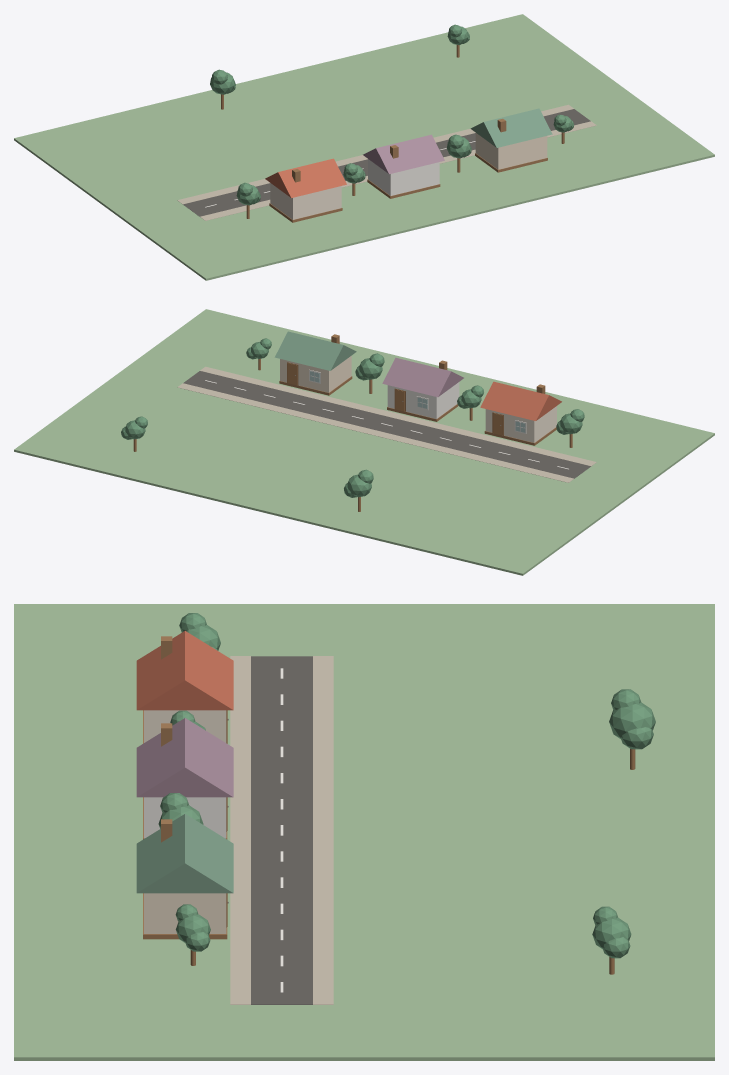
The model's file is Barrio.fbx.
3 views of the same model, one above another, from view 1: azimuth 30°, elevation 25°; view 2: azimuth 150°, elevation 25°; view 3: azimuth 270°, elevation 25° (orthographic). The views are drawn at different scales.
Parts seen in each view (by area): view 1: Terreno, Casa_3, Casa_2, Casa, Calle, Arbol_5, Arbol_2, Arbol_4; view 2: Terreno, Calle, Casa, Casa_3, Casa_2, Arbol_5, Arbol_2, Arbol_4, Arbol, Arbol_6; view 3: Terreno, Calle, Casa_3, Casa_2, Casa, Arbol_5, Arbol_6, Arbol_3, Arbol_4, Arbol_2.
Boxes of the visible parts, x1,y1,x2,y2 form: Terreno: (14, 14, 714, 280); Casa_3: (470, 108, 552, 172); Casa_2: (363, 134, 444, 198); Casa: (265, 158, 346, 222); Calle: (177, 104, 596, 220); Arbol_5: (210, 69, 235, 109); Arbol_2: (446, 134, 471, 172); Arbol_4: (236, 182, 260, 218); Terreno: (14, 309, 714, 575); Calle: (177, 366, 596, 482); Casa: (480, 381, 561, 445); Casa_3: (274, 331, 356, 395); Casa_2: (382, 357, 463, 421); Arbol_5: (344, 469, 373, 511); Arbol_2: (355, 353, 384, 393); Arbol_4: (556, 409, 584, 447); Arbol: (457, 385, 483, 420); Arbol_6: (121, 416, 147, 451); Terreno: (14, 604, 714, 1060); Calle: (230, 656, 333, 1004); Casa_3: (136, 814, 233, 939); Casa_2: (136, 718, 233, 839); Casa: (136, 631, 233, 743); Arbol_5: (609, 689, 655, 769); Arbol_6: (592, 906, 631, 974); Arbol_3: (175, 904, 210, 965); Arbol_4: (179, 613, 220, 650); Arbol_2: (158, 793, 203, 828).
Size of the model in its own units: 52 by 4.64 by 34.
